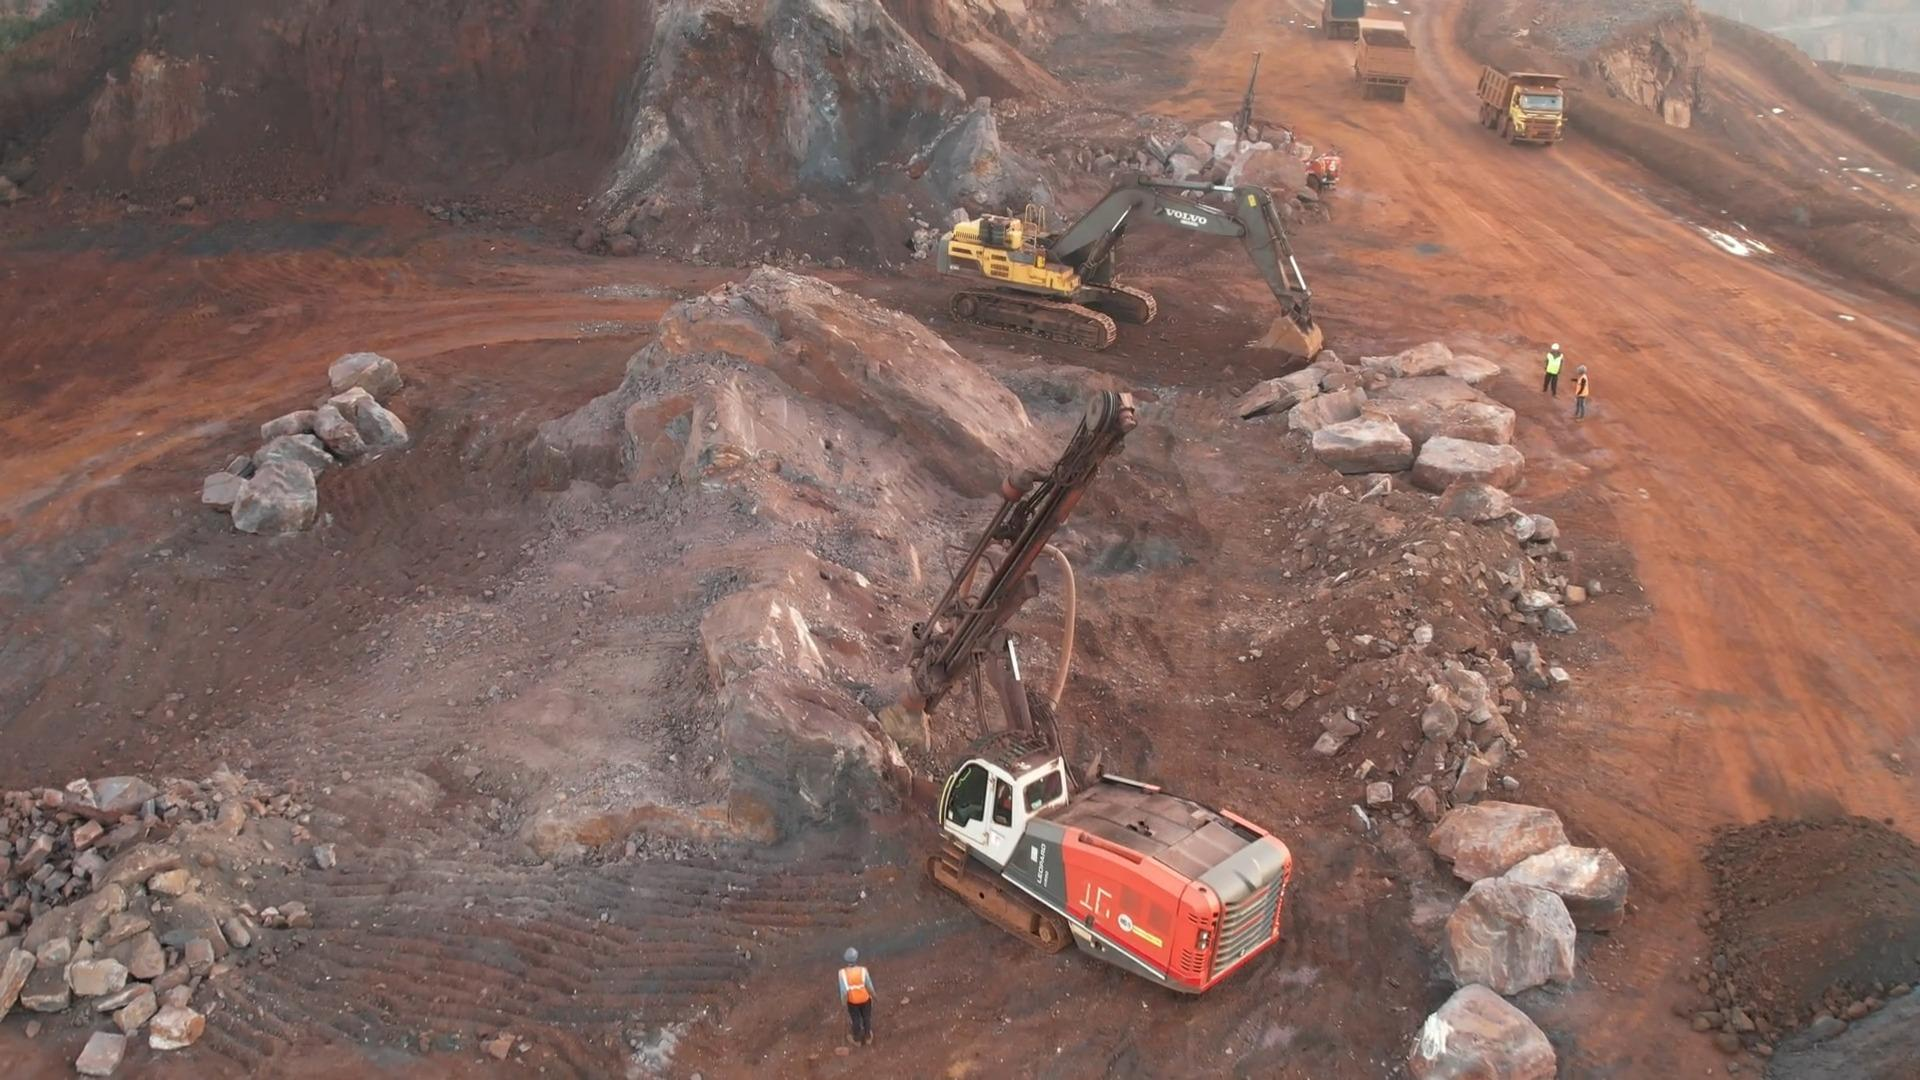excavator: (945, 191, 1307, 335)
